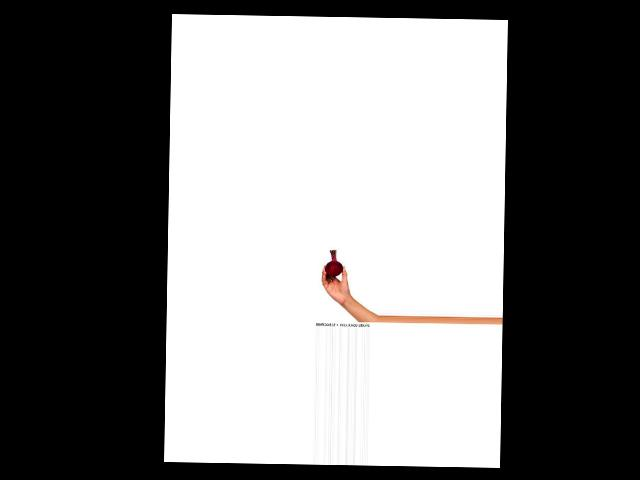beet: (324, 249, 342, 276)
